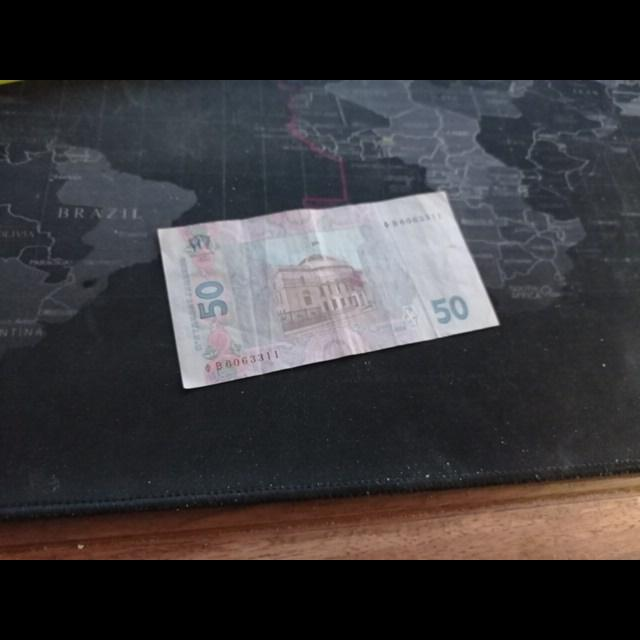50uah: (156, 191, 501, 392)
